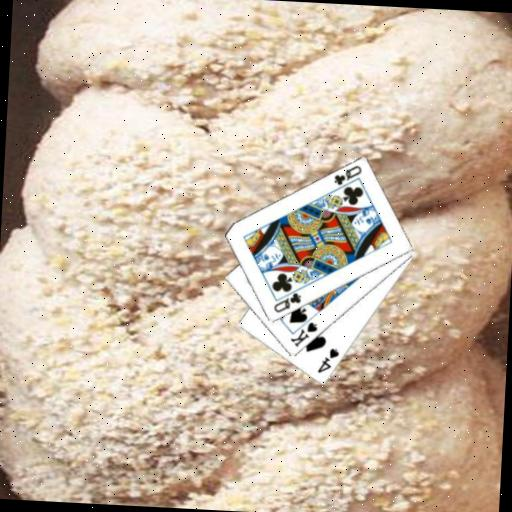4S: (314, 345, 341, 376)
KS: (287, 318, 320, 350)
QC: (270, 289, 303, 316), (331, 161, 364, 188)
